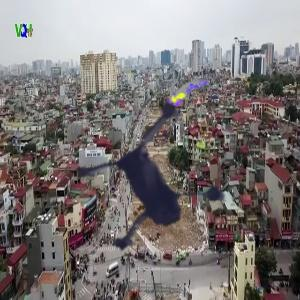drone: (60, 71, 283, 294)
